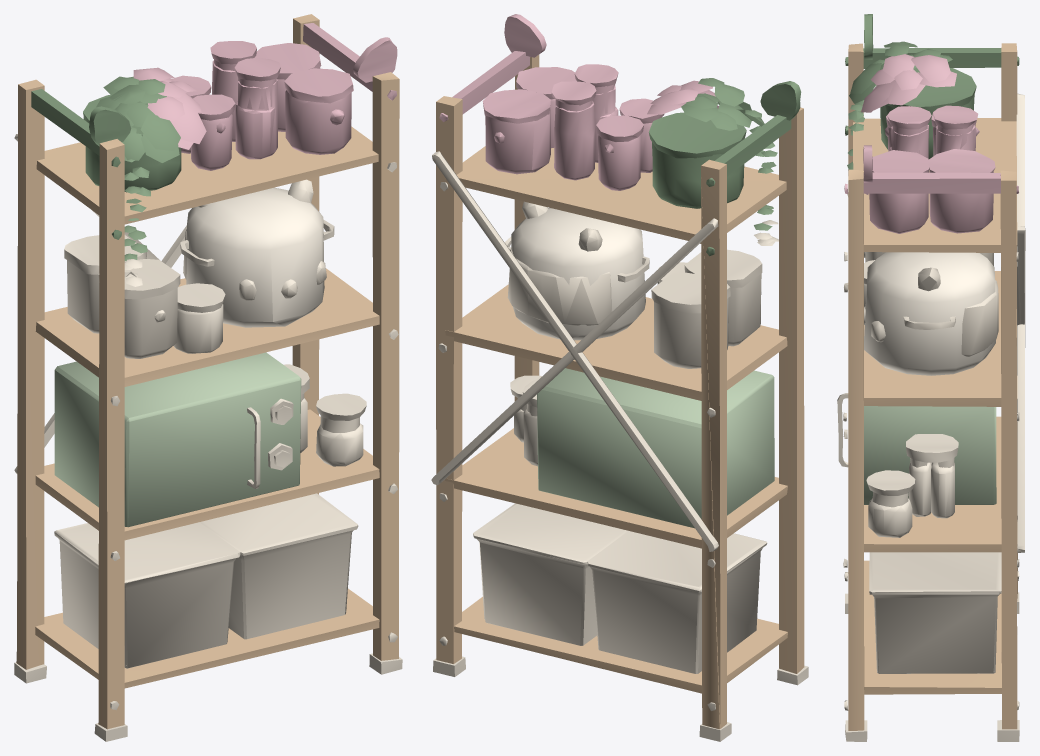
The model's file is kitchen_appliance_shelf.glb.
The picture shows the model from 3 angles, left to right: view 1: azimuth 30°, elevation 25°; view 2: azimuth 150°, elevation 25°; view 3: azimuth 270°, elevation 25°; orthographic projection. The views are drawn at different scales.
Size of the model in its own units: 1.35 by 2.65 by 0.7629.
